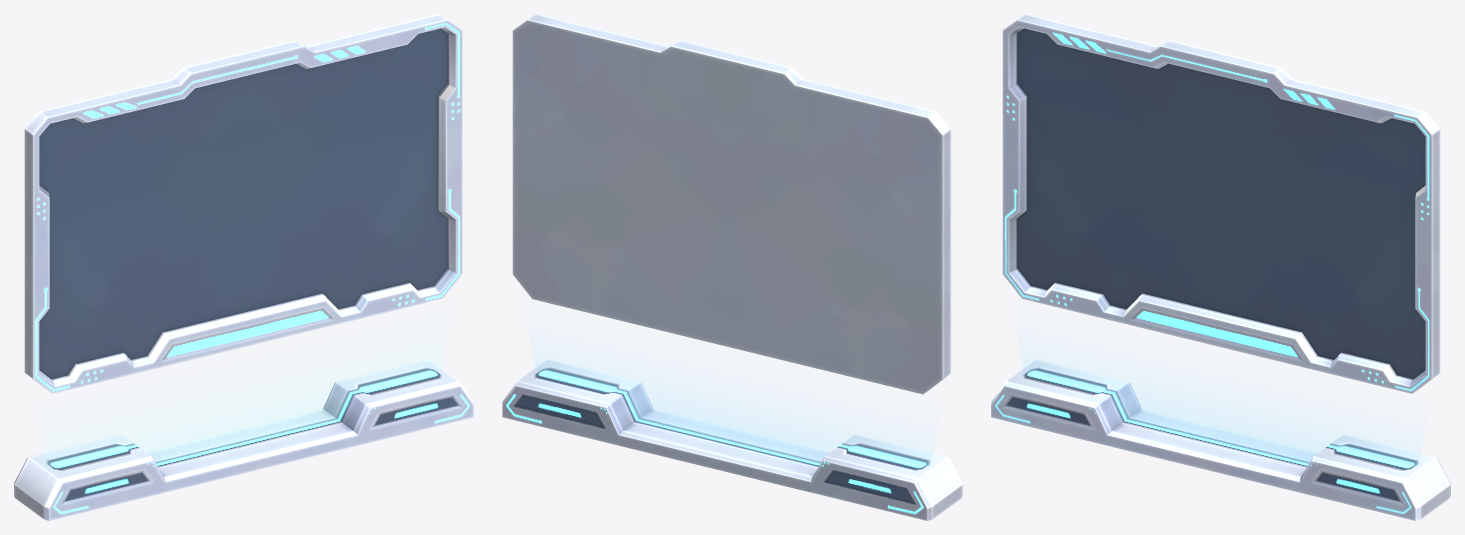
Rendered from obj_screen04.gltf.
3 views of the same model, side by side, from view 1: azimuth 30°, elevation 25°; view 2: azimuth 150°, elevation 25°; view 3: azimuth 330°, elevation 25° (orthographic).
Visible parts, largest first — view 1: obj_screen04; view 2: obj_screen04; view 3: obj_screen04.
Part boxes in pixels (left/top/right/bottom): obj_screen04: left=14, top=14, right=473, bottom=520; obj_screen04: left=502, top=14, right=962, bottom=520; obj_screen04: left=991, top=14, right=1450, bottom=520.
Size of what is drawn, in the model's own units: 4.17 by 3.69 by 0.5911.
Materials: 2 (2 with a texture image).
